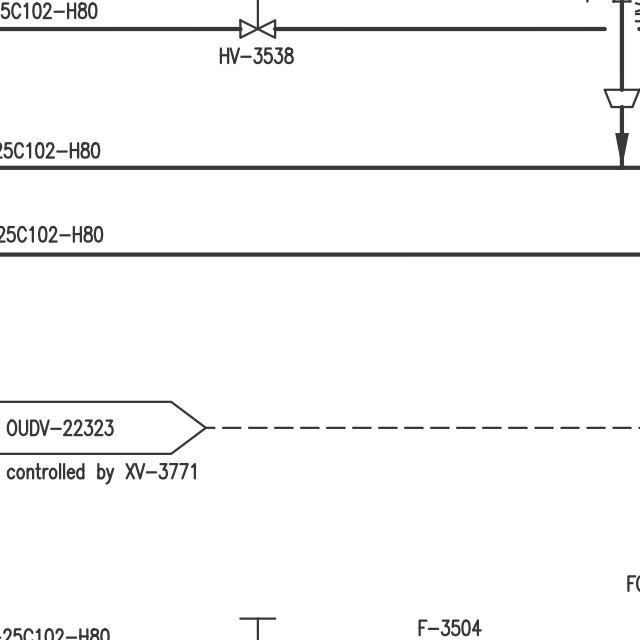SP: (597, 83, 640, 109)
